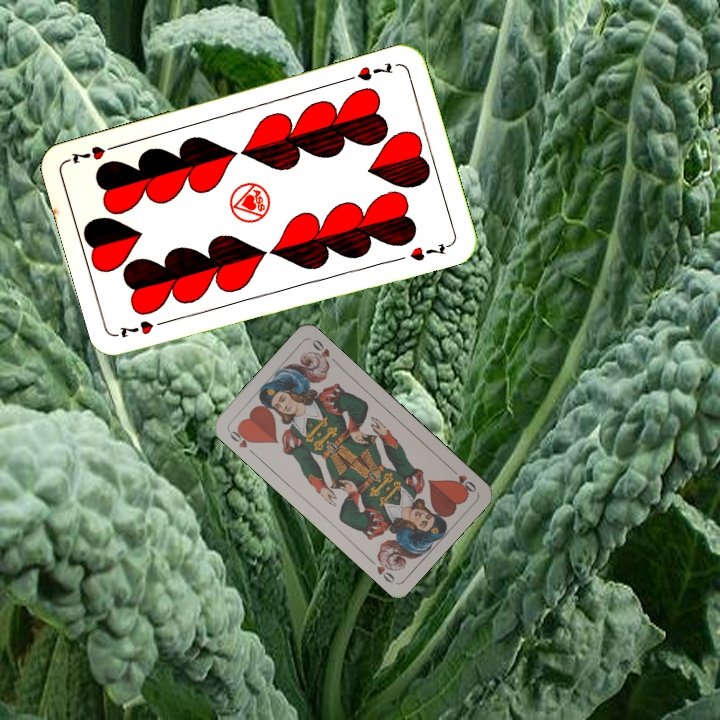H7: (117, 315, 172, 341), (342, 58, 395, 84)
HO: (224, 424, 258, 457), (446, 463, 479, 496)
